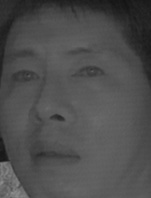eye: (70, 62, 107, 83), (8, 67, 41, 88)
mouth: (27, 135, 82, 171)
